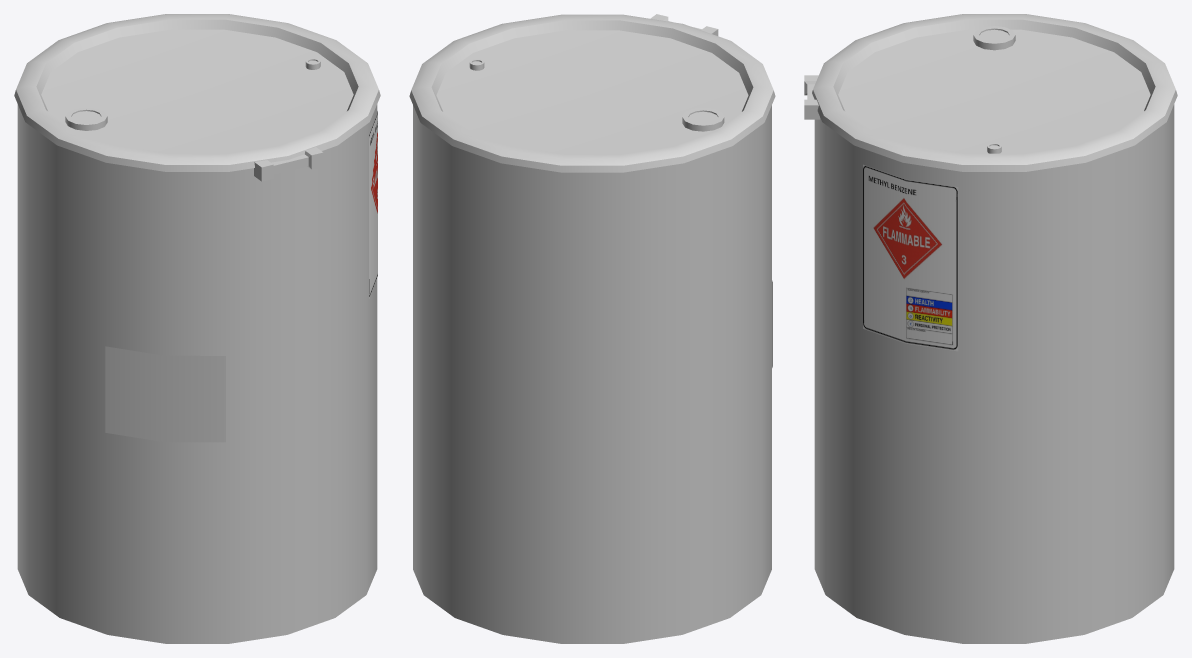
Rendered from Methyl_Benezyne_Drum.fbx.
The picture shows the model from 3 angles, left to right: view 1: azimuth 30°, elevation 25°; view 2: azimuth 150°, elevation 25°; view 3: azimuth 270°, elevation 25°; orthographic projection.
Visible parts, largest first — view 1: 55_Gal_Drum_MethylBenzene.001, 55_Gal_Drum_Lid_Low.004, 55_Gal_Drum_Label_Low.010, 55_Gal_Drum_Label_Low.008; view 2: 55_Gal_Drum_MethylBenzene.001, 55_Gal_Drum_Lid_Low.004; view 3: 55_Gal_Drum_MethylBenzene.001, 55_Gal_Drum_Lid_Low.004, 55_Gal_Drum_Label_Low.008.
Part boxes in pixels (box(x1,y1,x2,y2)): 55_Gal_Drum_MethylBenzene.001: box(17, 104, 377, 643); 55_Gal_Drum_Lid_Low.004: box(14, 14, 380, 181); 55_Gal_Drum_Label_Low.010: box(105, 346, 225, 442); 55_Gal_Drum_Label_Low.008: box(369, 111, 377, 298); 55_Gal_Drum_MethylBenzene.001: box(413, 105, 771, 643); 55_Gal_Drum_Lid_Low.004: box(409, 14, 775, 172); 55_Gal_Drum_MethylBenzene.001: box(814, 104, 1174, 643); 55_Gal_Drum_Lid_Low.004: box(804, 14, 1177, 171); 55_Gal_Drum_Label_Low.008: box(863, 164, 958, 351).
Bounding box in the file's own units: 58.21 × 85.89 × 60.23.
